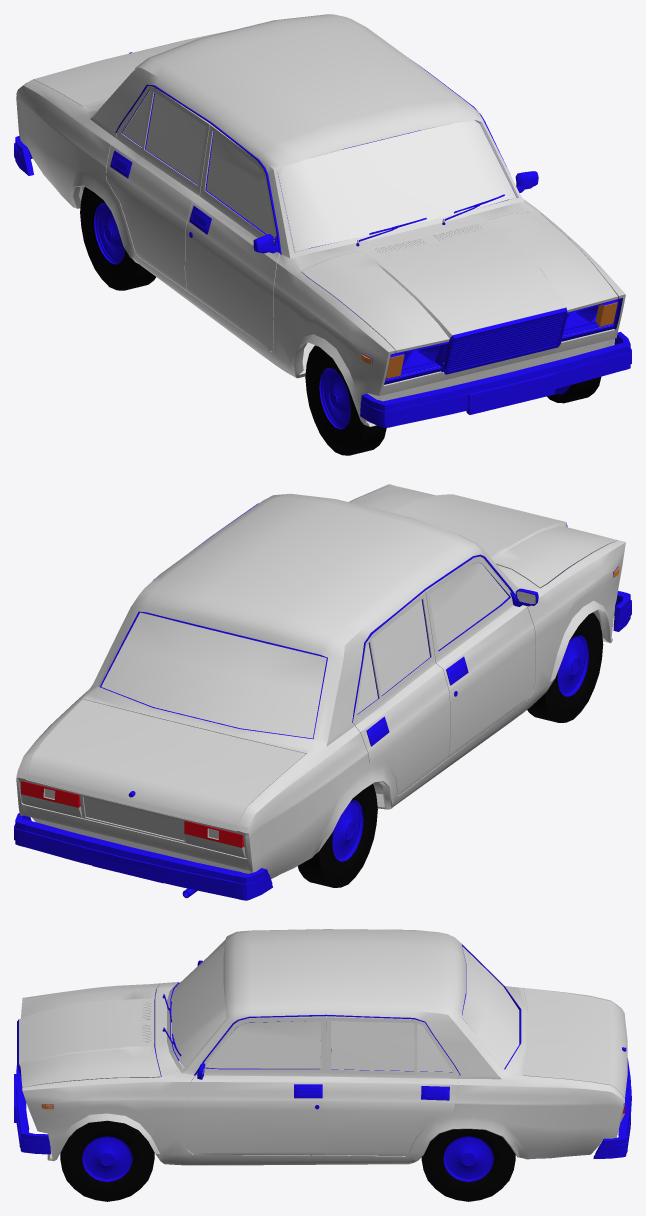
The model's file is Lada.fbx.
3 renders of one model, top to bottom at view 1: azimuth 30°, elevation 25°; view 2: azimuth 150°, elevation 25°; view 3: azimuth 270°, elevation 25°, orthographic. The views are drawn at different scales.
Visible parts, largest first — view 1: Lada; view 2: Lada; view 3: Lada.
Boxes of the visible parts, <box> form: Lada: <box>14,14,631,455</box>; Lada: <box>14,484,631,900</box>; Lada: <box>14,929,631,1201</box>.
Bounding box in the file's own units: 409 × 144 × 173.
